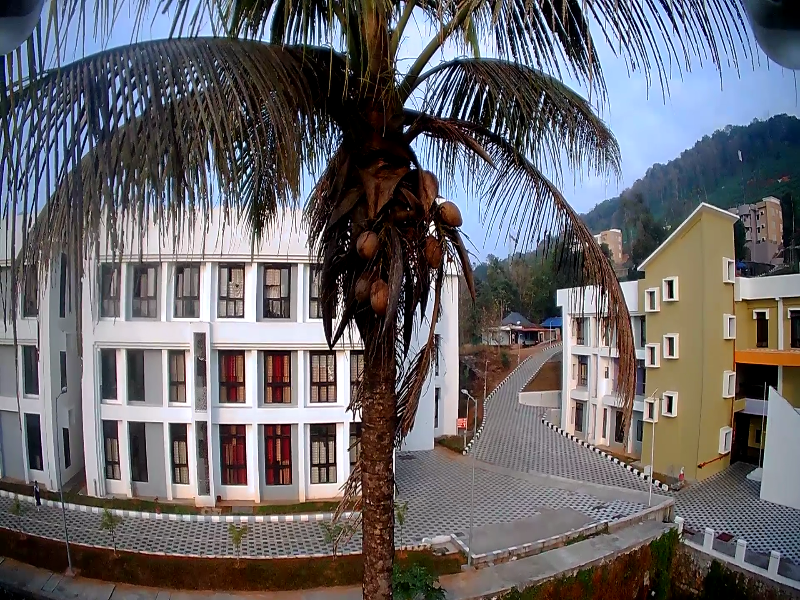coconut: (432, 200, 465, 228), (356, 227, 379, 263), (363, 274, 388, 307), (419, 233, 442, 261), (350, 277, 366, 301)
